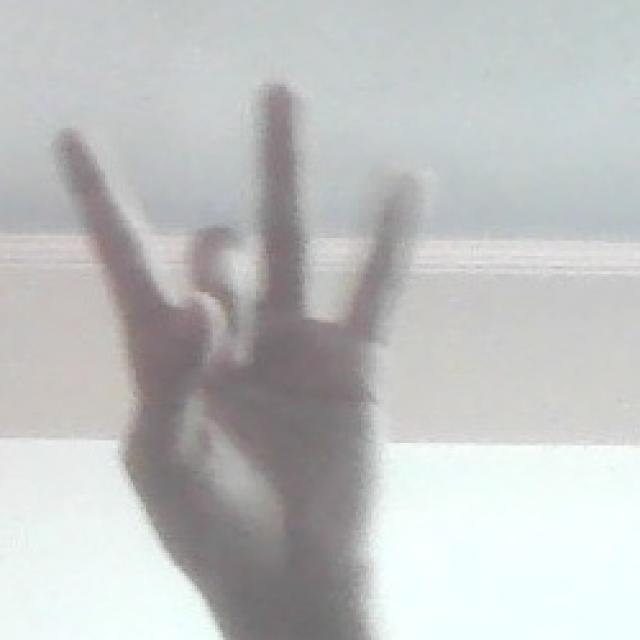Numeric-8: (46, 73, 423, 596)
